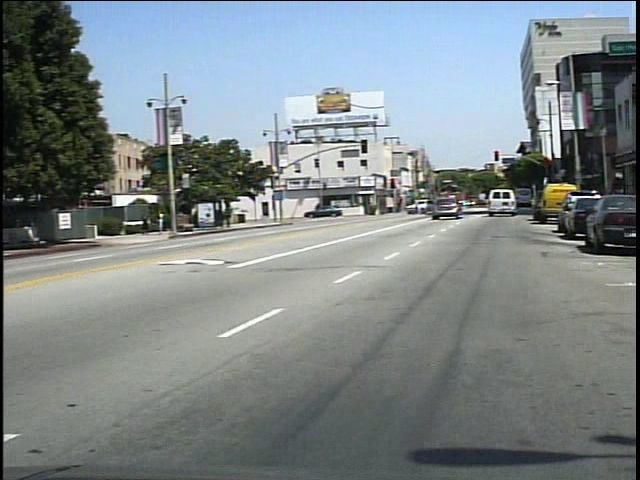person: (162, 207, 178, 236), (320, 193, 335, 221), (147, 212, 160, 238)
